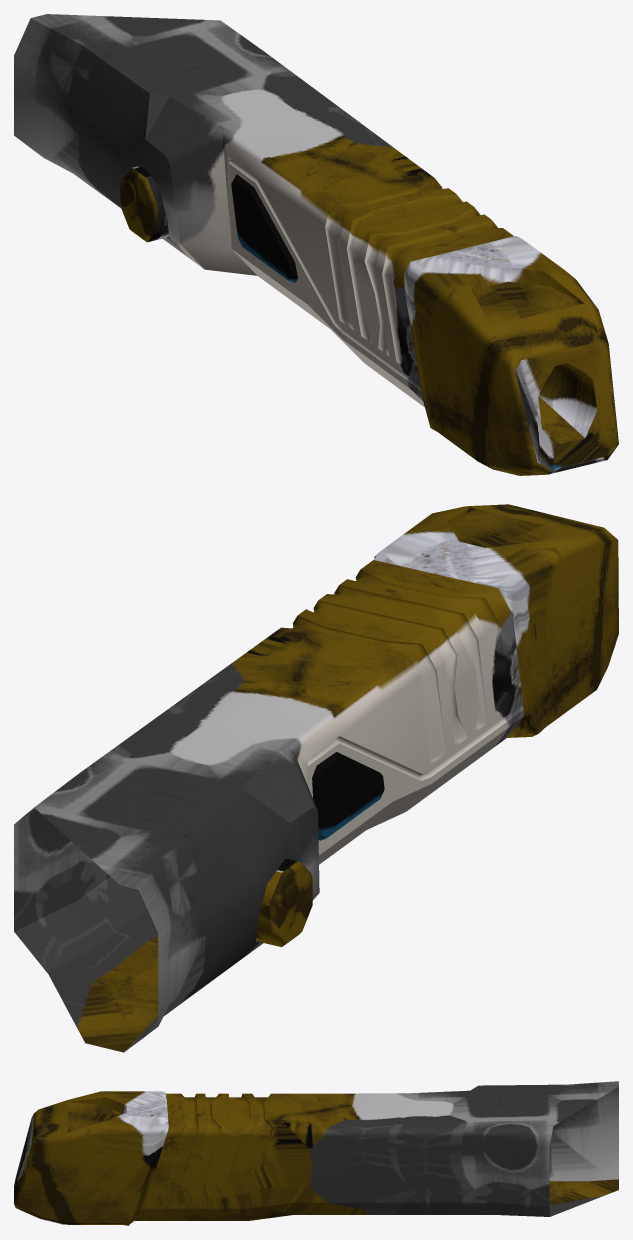
Rendered from ME_Huge_R_Cannon.fbx.
3 renders of one model, top to bottom at view 1: azimuth 30°, elevation 25°; view 2: azimuth 150°, elevation 25°; view 3: azimuth 270°, elevation 25°, orthographic. The views are drawn at different scales.
Visible parts, largest first — view 1: ME_Huge_R_Cannon; view 2: ME_Huge_R_Cannon; view 3: ME_Huge_R_Cannon.
Boxes of the visible parts, box(x1,y1,x2,y2) form: ME_Huge_R_Cannon: box(14, 14, 618, 475); ME_Huge_R_Cannon: box(14, 504, 618, 1052); ME_Huge_R_Cannon: box(14, 1081, 618, 1225).
Bounding box in the file's own units: 59.9 × 49.35 × 269.
